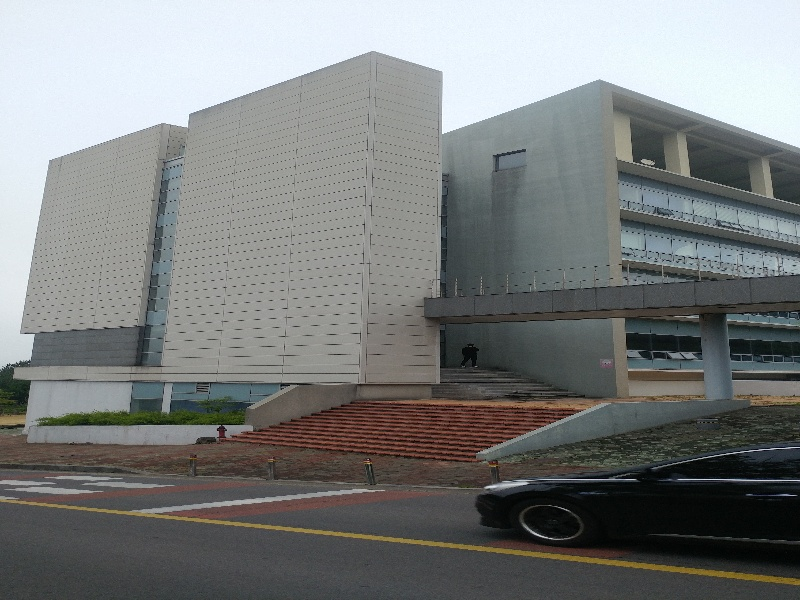Engineering College Building 4: (42, 72, 793, 400), (45, 68, 421, 450), (471, 117, 776, 390)
